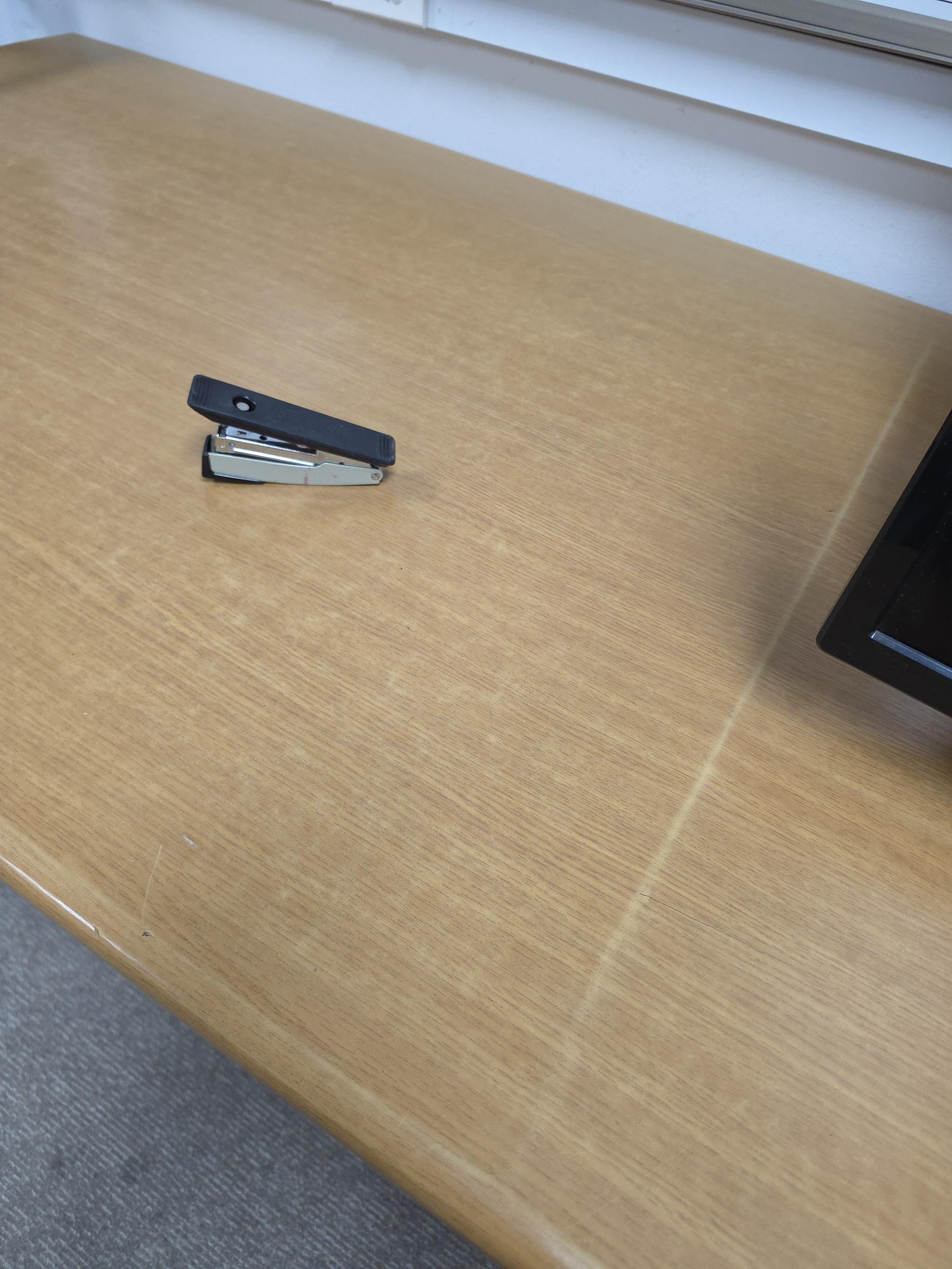stapler: (187, 374, 396, 487)
